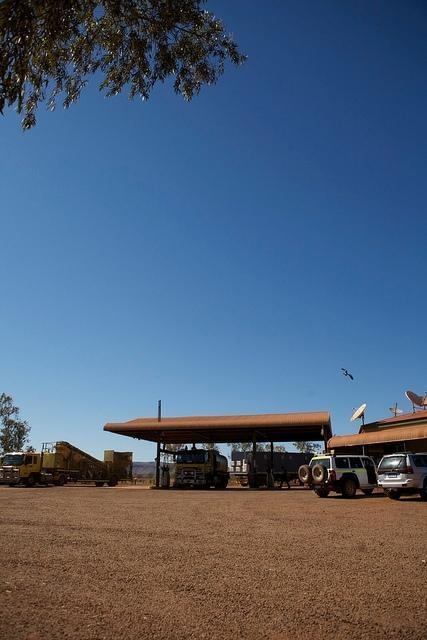car: (374, 452, 427, 502)
truck: (299, 450, 378, 498), (0, 450, 79, 488), (230, 451, 312, 486), (373, 447, 426, 499), (174, 449, 231, 490)
